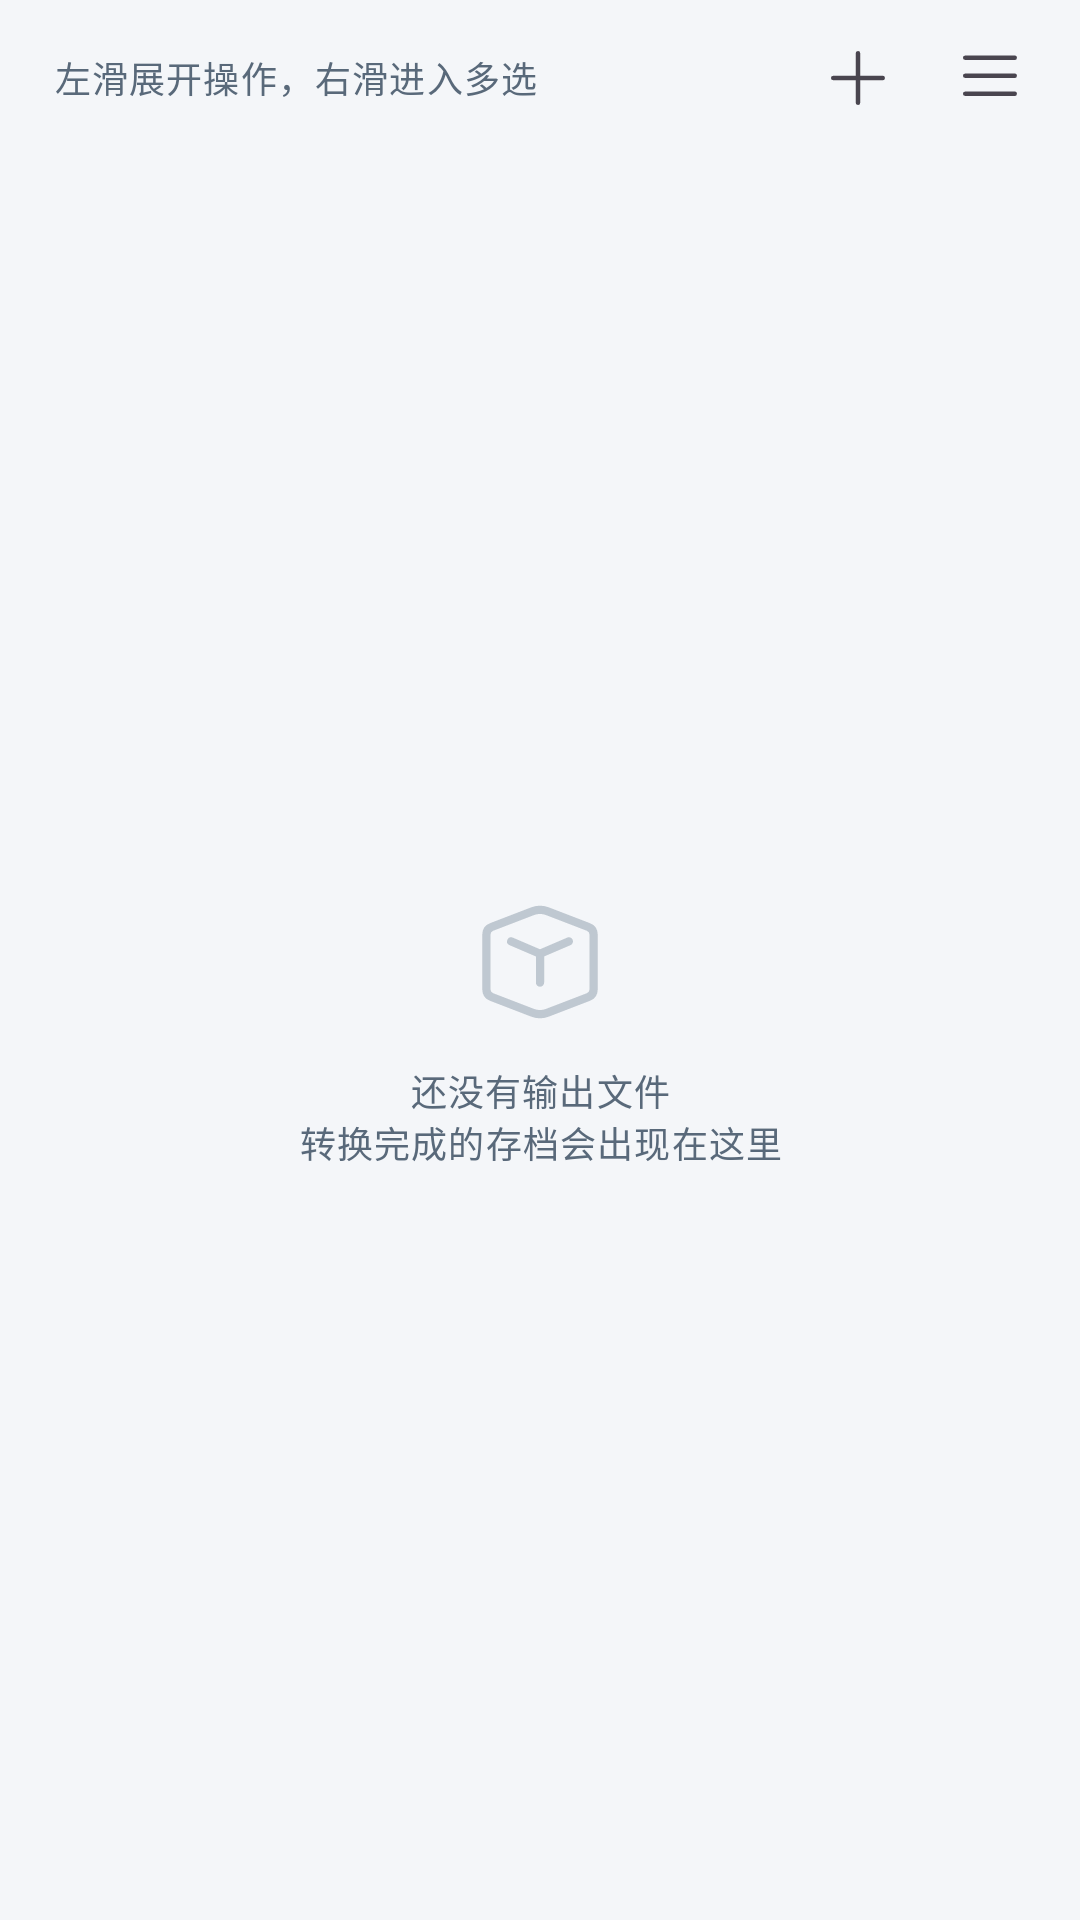

Where to tap for icons on this 1080×1920 app screen, as point (x, y):
添加: point (858, 78)
